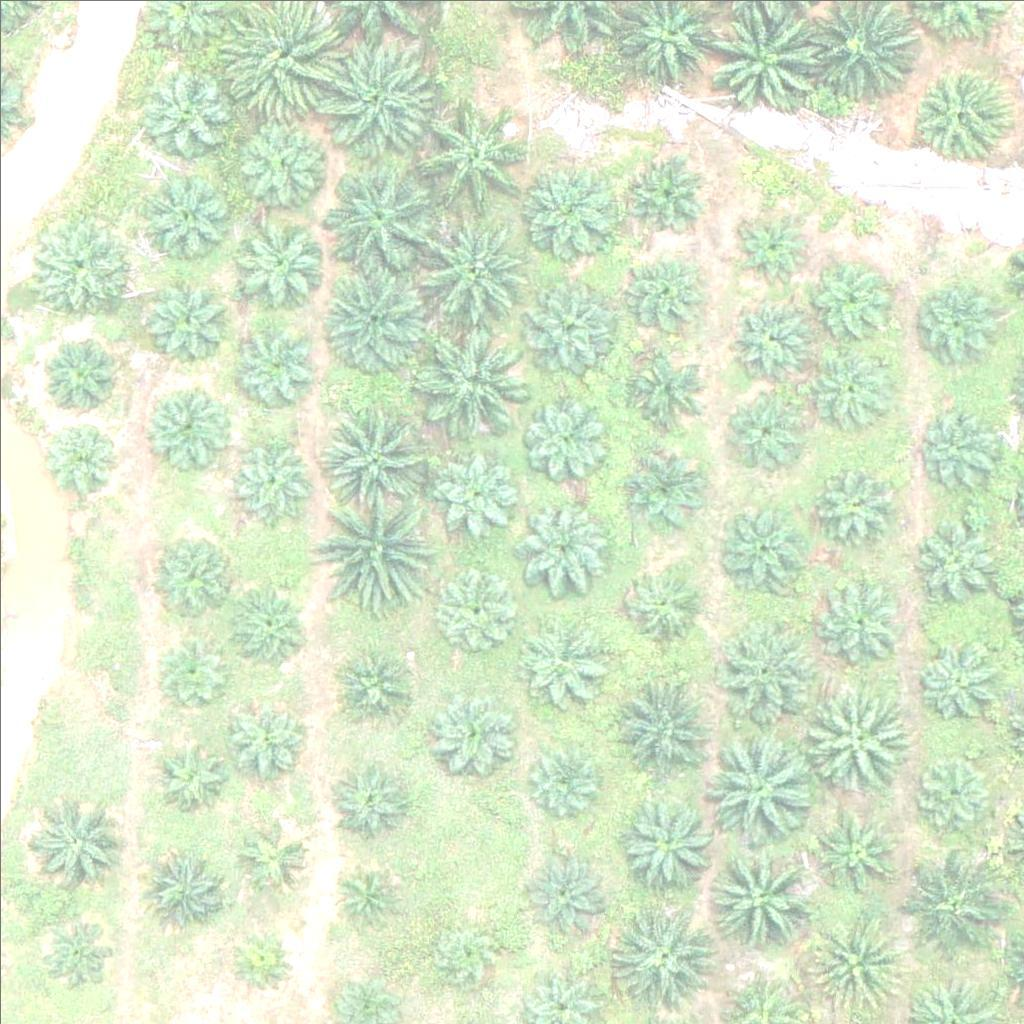Kelapa_Sawit: (324, 263, 437, 377), (317, 487, 430, 600), (320, 166, 433, 279), (612, 662, 725, 775), (703, 725, 816, 838), (892, 853, 1005, 966), (314, 38, 426, 152), (698, 839, 810, 953), (320, 394, 432, 507), (413, 100, 525, 213), (413, 209, 525, 322), (417, 321, 529, 434), (804, 681, 916, 794), (611, 897, 723, 1010), (27, 789, 127, 890), (29, 220, 129, 321), (137, 159, 237, 260), (520, 266, 620, 367), (616, 787, 716, 888), (719, 620, 819, 721), (807, 912, 907, 1013), (227, 114, 327, 214), (223, 210, 323, 310), (521, 161, 621, 261), (909, 59, 1009, 159), (222, 695, 310, 784), (30, 907, 118, 996), (324, 752, 412, 840), (336, 636, 424, 724), (152, 529, 240, 617), (229, 319, 317, 407), (520, 493, 608, 581), (520, 392, 608, 480), (906, 747, 994, 835), (917, 640, 1005, 728), (913, 512, 1001, 600), (920, 410, 1008, 498), (818, 462, 906, 550), (720, 507, 808, 595), (621, 144, 709, 232), (619, 561, 707, 649), (430, 560, 518, 648), (812, 804, 900, 892), (521, 847, 609, 935), (136, 843, 224, 931), (224, 581, 311, 669), (231, 433, 318, 521), (142, 376, 229, 464), (35, 330, 122, 418), (141, 60, 228, 148), (146, 281, 233, 369), (914, 275, 1001, 363), (804, 258, 891, 346), (808, 343, 895, 431), (817, 579, 904, 667), (723, 382, 810, 470), (722, 298, 809, 386), (624, 254, 711, 342), (616, 351, 703, 439), (624, 448, 711, 536), (429, 689, 516, 777), (432, 447, 519, 535), (518, 616, 605, 704), (526, 738, 601, 814), (153, 628, 228, 704), (733, 213, 808, 289), (44, 415, 119, 491), (330, 855, 405, 931), (238, 818, 313, 893), (424, 913, 499, 988), (150, 734, 225, 809), (223, 922, 298, 997)
